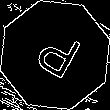P_SW: (27, 24, 83, 86)
